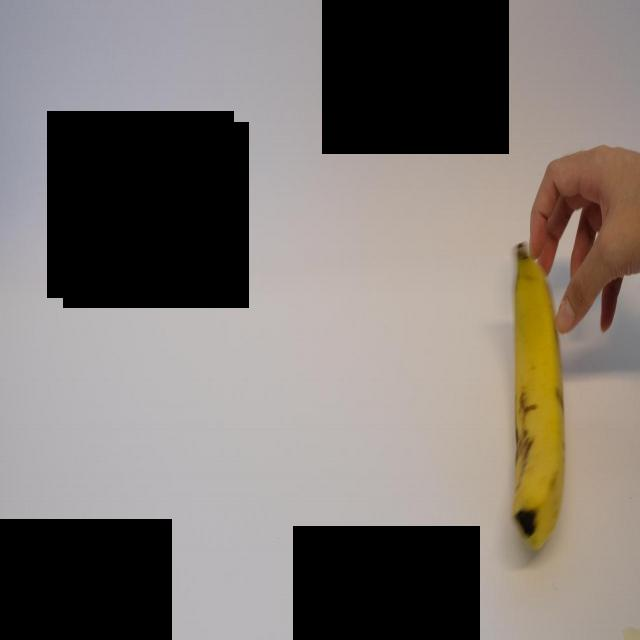banana: (503, 230, 570, 554)
